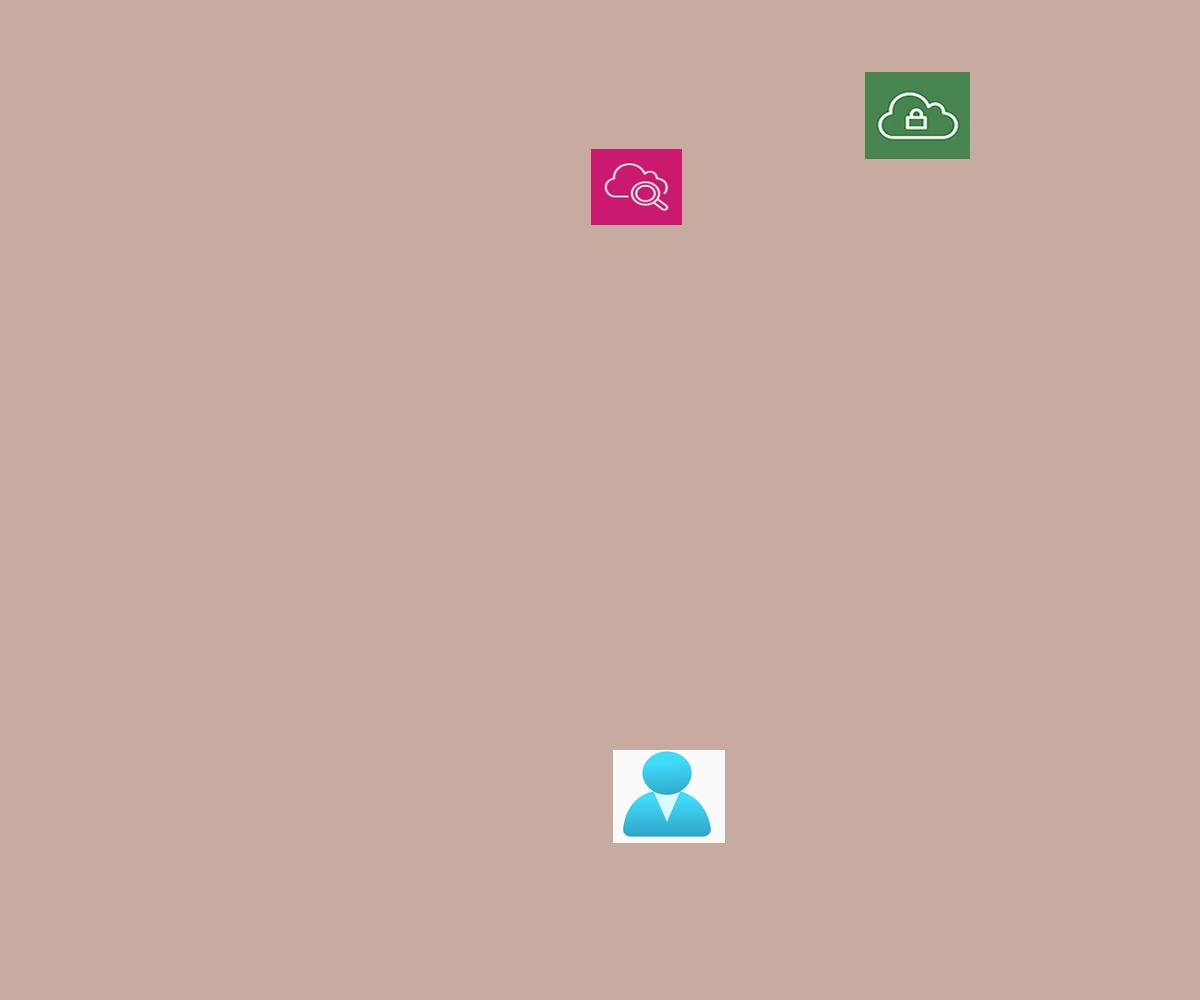AWS-CloudWatch: (591, 149, 682, 225)
AWS-Private_vpc: (865, 72, 970, 159)
Azure_users: (613, 750, 725, 843)
